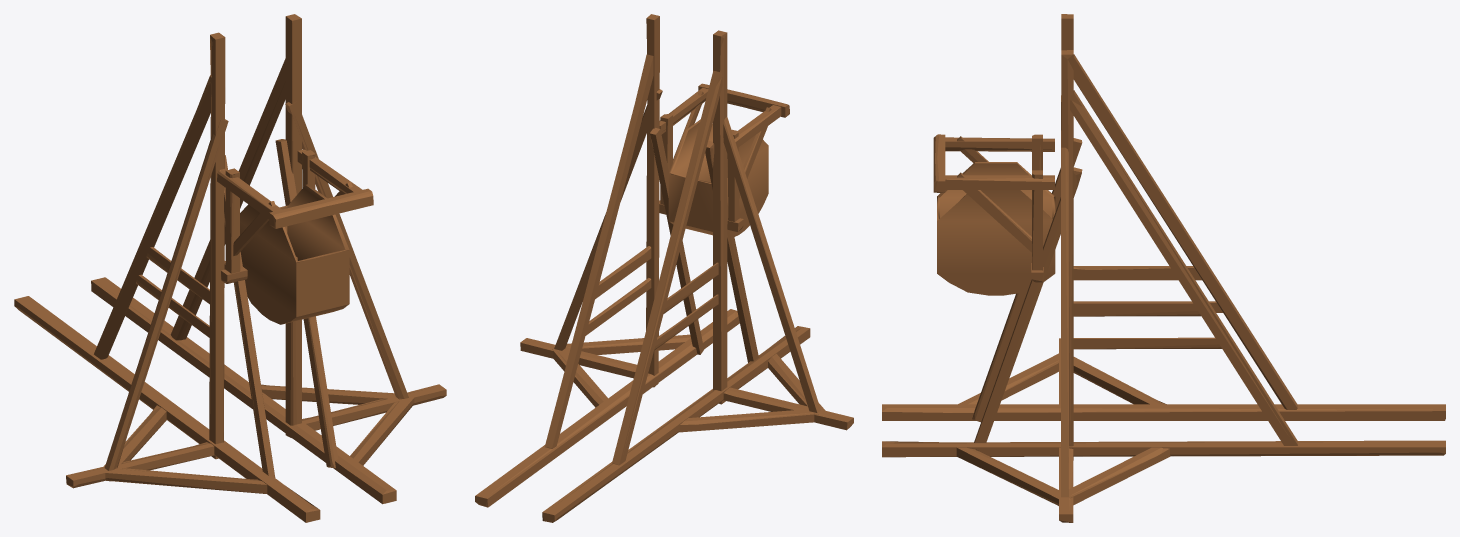
The model's file is pk-halberstram-sm-trebuchet-base.glb.
3 renders of one model, left to right at view 1: azimuth 30°, elevation 25°; view 2: azimuth 150°, elevation 25°; view 3: azimuth 270°, elevation 25°, orthographic. The views are drawn at different scales.
Visible parts, largest first — view 1: Object210; view 2: Object210; view 3: Object210.
Boxes of the visible parts, bbox=[...] form: Object210: bbox=[14, 14, 446, 522]; Object210: bbox=[475, 14, 853, 522]; Object210: bbox=[882, 14, 1445, 522].
Bounding box in the file's own units: 5.91 × 6.35 × 8.
